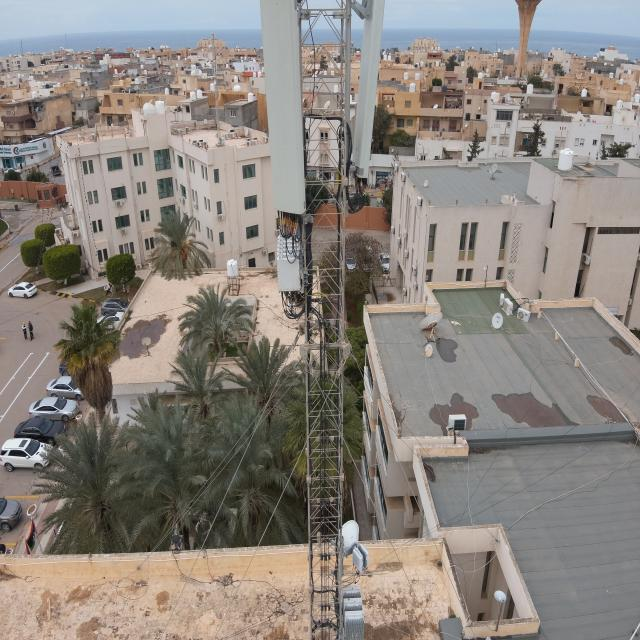antenna: (260, 0, 302, 216), (349, 0, 391, 183)
microware-dish: (329, 518, 369, 575)
power-box: (340, 579, 369, 640)
radio-unit: (273, 234, 303, 288)
